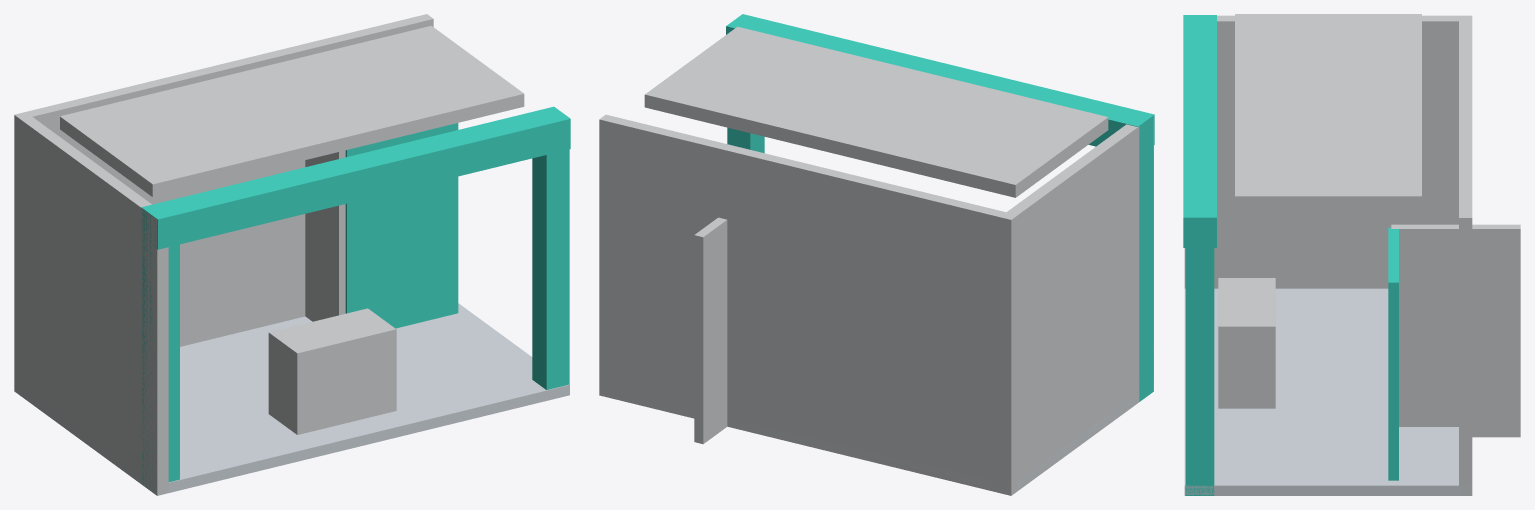
3 renders of one model, left to right at view 1: azimuth 30°, elevation 25°; view 2: azimuth 150°, elevation 25°; view 3: azimuth 270°, elevation 25°, orthographic.
Visible parts, largest first — view 1: Exhibition Booth Concept; view 2: Exhibition Booth Concept; view 3: Exhibition Booth Concept.
Boxes of the visible parts, box(x1,y1,x2,y2) form: Exhibition Booth Concept: box(14, 14, 570, 495); Exhibition Booth Concept: box(599, 14, 1154, 495); Exhibition Booth Concept: box(1183, 14, 1520, 495).
Bounding box in the file's own units: 5 × 3.34 × 3.52.
